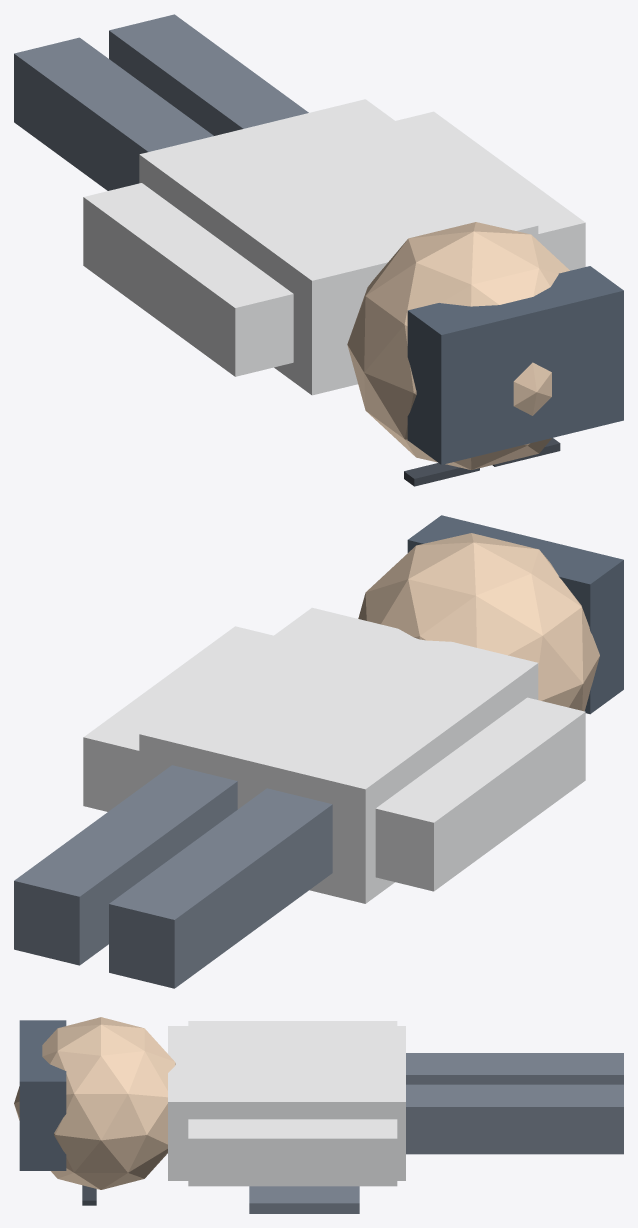
Rendered from researcher.glb.
The picture shows the model from 3 angles, top to bottom: view 1: azimuth 30°, elevation 25°; view 2: azimuth 150°, elevation 25°; view 3: azimuth 270°, elevation 25°; orthographic projection. The views are drawn at different scales.
Parts seen in each view (by area): view 1: torso_2, hair_6, arm_l_3, head_5, leg_l_0, leg_r_1, arm_r_4, glasses_l_8; view 2: torso_2, leg_l_0, arm_l_3, head_5, leg_r_1, arm_r_4, hair_6; view 3: torso_2, head_5, leg_r_1, arm_r_4, leg_l_0, hair_6, tablet_7, arm_l_3.
Part boxes in pixels (left/top/right/bottom): torso_2: left=139, top=99, right=538, bottom=395; hair_6: left=407, top=266, right=623, bottom=464; arm_l_3: left=83, top=183, right=293, bottom=376; head_5: left=347, top=222, right=569, bottom=469; leg_l_0: left=14, top=37, right=213, bottom=190; leg_r_1: left=109, top=14, right=308, bottom=135; arm_r_4: left=396, top=111, right=585, bottom=270; glasses_l_8: left=404, top=463, right=479, bottom=486; torso_2: left=139, top=607, right=538, bottom=903; leg_l_0: left=109, top=788, right=332, bottom=988; arm_l_3: left=375, top=697, right=585, bottom=891; head_5: left=358, top=533, right=599, bottom=711; leg_r_1: left=14, top=765, right=237, bottom=965; arm_r_4: left=83, top=626, right=273, bottom=811; hair_6: left=407, top=515, right=623, bottom=714; torso_2: left=168, top=1026, right=405, bottom=1180; head_5: left=14, top=1017, right=175, bottom=1189; leg_r_1: left=406, top=1084, right=623, bottom=1154; arm_r_4: left=188, top=1119, right=397, bottom=1186; leg_l_0: left=406, top=1053, right=623, bottom=1084; hair_6: left=19, top=1020, right=66, bottom=1170; tablet_7: left=249, top=1186, right=359, bottom=1213; arm_l_3: left=188, top=1021, right=397, bottom=1025.
Bounding box in the file's own units: 0.96 × 0.6 × 2.1.
